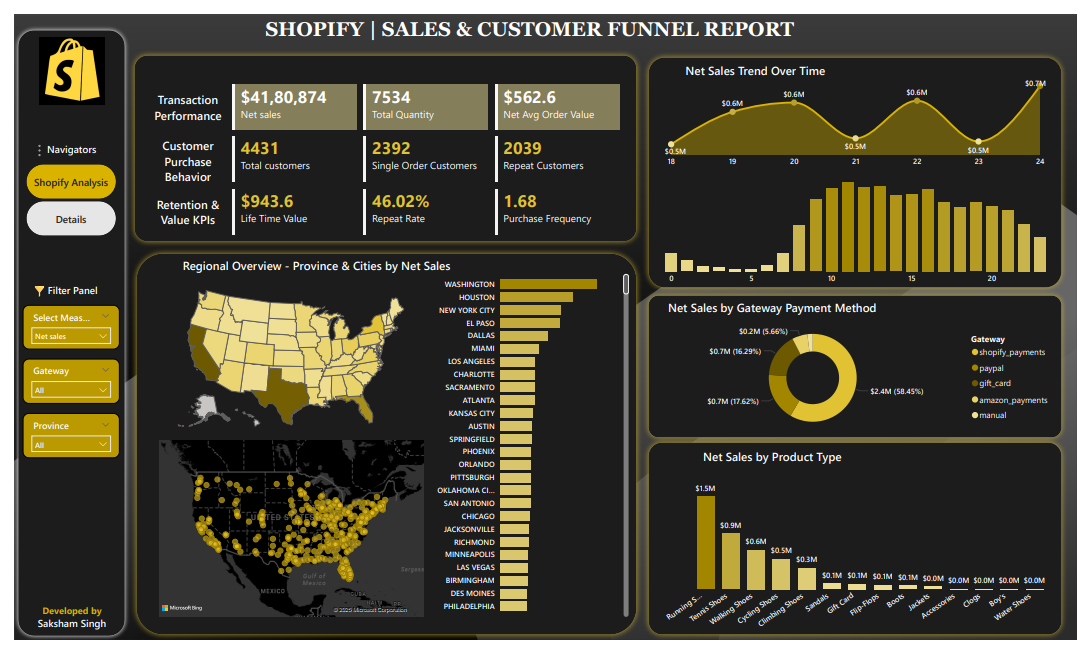

The dashboard page shown, as its layout file describes it:
{"tool":"powerbi","page":{"name":"Shopify Analysis","canvas":[1700,1000],"ordinal":0},"visuals":[{"type":"shape","box":[0,17,184.1,983.3],"z":0},{"type":"textbox","box":[397.1,0,904.9,90.3],"z":1000},{"type":"shape","box":[184.1,56.2,819.7,315.3],"z":2000},{"type":"shape","box":[185.8,371.5,819.7,628.8],"z":3000},{"type":"cardVisual","fields":{"Data":["shopify_sales.Net sales","shopify_sales.Total Quantity","shopify_sales.Net_avg_order_value"]},"box":[344.2,105.7,630.5,83.5],"z":4000},{"type":"cardVisual","fields":{"Data":["shopify_sales.Total customers","shopify_sales.Single_Order Customers","shopify_sales.Repeat Customers"]},"box":[344.2,189.2,630.5,83.5],"z":5000},{"type":"cardVisual","fields":{"Data":["shopify_sales.Life Time Value","shopify_sales.Repeat Rate","shopify_sales.Purchase Frequency"]},"box":[344.2,272.7,630.5,83.5],"z":6000},{"type":"textbox","box":[213,117.6,131.2,61.4],"z":7000},{"type":"textbox","box":[213,190.9,131.2,93.7],"z":8000},{"type":"textbox","box":[213,284.6,131.2,61.4],"z":9000},{"type":"shapeMap","fields":{"Value":["shopify_sales.Net sales"],"Category":["shopify_sales.Billing Address Province"]},"box":[226.7,424.3,432.9,250.5],"z":10000},{"type":"slicer","fields":{"Values":["Select Measures.Select Measures"]},"box":[13.6,463.5,155.1,71.6],"z":11000},{"type":"map","fields":{"Category":["shopify_sales.Loccation"]},"box":[226.7,674.9,432.9,293.1],"z":12000},{"type":"clusteredBarChart","fields":{"Category":["shopify_sales.CITY"],"Y":["shopify_sales.Net sales"]},"box":[659.5,402.2,328.9,565.8],"z":13000},{"type":"card","fields":{"Values":["shopify_sales.Map Title"]},"box":[213,373.2,541.9,57.9],"z":14000},{"type":"shape","box":[1005.5,57.9,680,388.6],"z":15000},{"type":"areaChart","fields":{"Y":["shopify_sales.Net sales"],"Category":["shopify_sales.Invoice Date.Variation.Date Hierarchy.Day"]},"box":[1036.1,90.3,620.3,161.9],"z":16000},{"type":"columnChart","fields":{"Y":["shopify_sales.Net sales"],"Category":["shopify_sales.Hour"]},"box":[1036.1,238.6,620.3,201.1],"z":17000},{"type":"card","fields":{"Values":["shopify_sales.Trend Title"]},"box":[915.1,61.4,541.9,57.9],"z":18000},{"type":"shape","box":[1005.5,439.7,680,245.4],"z":19000},{"type":"shape","box":[1005.5,674.9,680,325.5],"z":20000},{"type":"donutChart","fields":{"Y":["shopify_sales.Net sales"],"Category":["shopify_sales.Gateway"]},"box":[1019.1,485.7,649.3,189.2],"z":21000},{"type":"card","fields":{"Values":["shopify_sales.Gateway Title"]},"box":[942.4,441.4,541.9,56.2],"z":22000},{"type":"columnChart","fields":{"Y":["shopify_sales.Net sales"],"Category":["shopify_sales.Product Type"]},"box":[1036.1,729.4,632.2,271],"z":23000},{"type":"card","fields":{"Values":["shopify_sales.gateway Title"]},"box":[942.4,674.9,541.9,68.2],"z":24000},{"type":"image","box":[27.3,30.7,129.5,117.6],"z":25000},{"type":"slicer","fields":{"Values":["shopify_sales.Gateway"]},"box":[13.6,550.4,155.1,71.6],"z":26000},{"type":"slicer","fields":{"Values":["shopify_sales.Billing Address Province"]},"box":[13.6,637.4,155.1,71.6],"z":27000},{"type":"pageNavigator","box":[20.5,238.6,143.2,114.2],"z":28000},{"type":"image","box":[20.5,197.7,40.9,38.6],"z":29000},{"type":"textbox","box":[48,199,138,36],"z":30000},{"type":"image","box":[25.1,428.8,31.3,25.9],"z":31000},{"type":"textbox","box":[49.4,424.3,138,35.8],"z":32000},{"type":"textbox","box":[29,937.3,127.8,59.6],"z":33000}]}

Visuals, with their boxes in screenshot pixels (x1, y1, x2, y2), scaled from the page's 1700x1000 canvas onto the 1090x652 screenshot:
shape: (x1=0, y1=11, x2=118, y2=651)
textbox: (x1=255, y1=0, x2=835, y2=59)
shape: (x1=118, y1=37, x2=644, y2=242)
shape: (x1=119, y1=242, x2=645, y2=651)
cardVisual - shopify_sales.Net sales x shopify_sales.Total Quantity: (x1=221, y1=69, x2=625, y2=123)
cardVisual - shopify_sales.Total customers x shopify_sales.Single_Order Customers: (x1=221, y1=123, x2=625, y2=178)
cardVisual - shopify_sales.Life Time Value x shopify_sales.Repeat Rate: (x1=221, y1=178, x2=625, y2=232)
textbox: (x1=137, y1=77, x2=221, y2=117)
textbox: (x1=137, y1=124, x2=221, y2=186)
textbox: (x1=137, y1=186, x2=221, y2=226)
shapeMap - shopify_sales.Net sales x shopify_sales.Billing Address Province: (x1=145, y1=277, x2=423, y2=440)
slicer - Select Measures.Select Measures: (x1=9, y1=302, x2=108, y2=349)
map - shopify_sales.Loccation: (x1=145, y1=440, x2=423, y2=631)
clusteredBarChart - shopify_sales.CITY x shopify_sales.Net sales: (x1=423, y1=262, x2=634, y2=631)
card - shopify_sales.Map Title: (x1=137, y1=243, x2=484, y2=281)
shape: (x1=645, y1=38, x2=1081, y2=291)
areaChart - shopify_sales.Net sales x shopify_sales.Invoice Date.Variation.Date Hierarchy.Day: (x1=664, y1=59, x2=1062, y2=164)
columnChart - shopify_sales.Net sales x shopify_sales.Hour: (x1=664, y1=156, x2=1062, y2=287)
card - shopify_sales.Trend Title: (x1=587, y1=40, x2=934, y2=78)
shape: (x1=645, y1=287, x2=1081, y2=447)
shape: (x1=645, y1=440, x2=1081, y2=651)
donutChart - shopify_sales.Net sales x shopify_sales.Gateway: (x1=653, y1=317, x2=1070, y2=440)
card - shopify_sales.Gateway Title: (x1=604, y1=288, x2=952, y2=324)
columnChart - shopify_sales.Net sales x shopify_sales.Product Type: (x1=664, y1=476, x2=1070, y2=651)
card - shopify_sales.gateway Title: (x1=604, y1=440, x2=952, y2=485)
image: (x1=18, y1=20, x2=101, y2=97)
slicer - shopify_sales.Gateway: (x1=9, y1=359, x2=108, y2=406)
slicer - shopify_sales.Billing Address Province: (x1=9, y1=416, x2=108, y2=462)
pageNavigator: (x1=13, y1=156, x2=105, y2=230)
image: (x1=13, y1=129, x2=39, y2=154)
textbox: (x1=31, y1=130, x2=119, y2=153)
image: (x1=16, y1=280, x2=36, y2=296)
textbox: (x1=32, y1=277, x2=120, y2=300)
textbox: (x1=19, y1=611, x2=101, y2=650)
